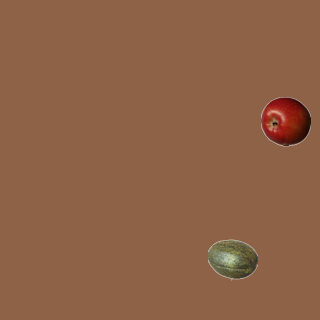Apple Braeburn: (260, 96, 310, 146)
Melon Piel de Sapo: (207, 234, 257, 284)
